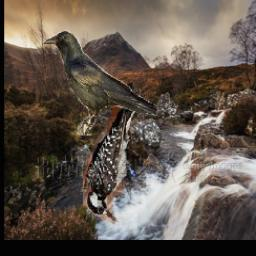Crow: (41, 30, 158, 136)
Woodpecker: (79, 83, 155, 226)
